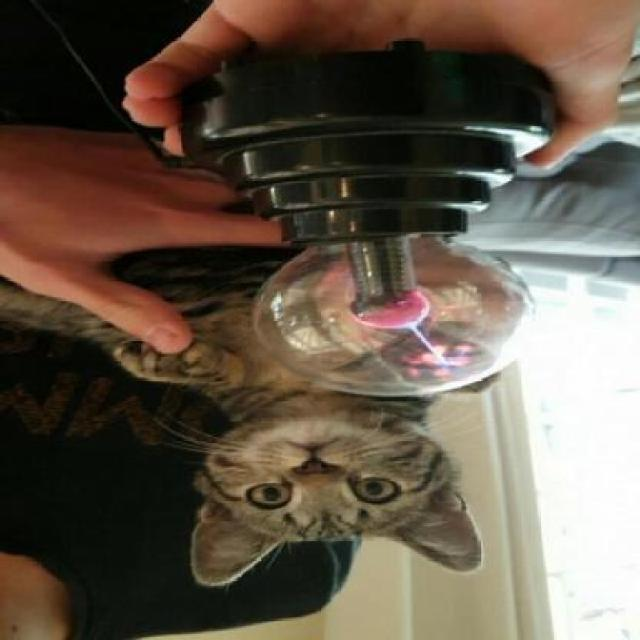cat: (94, 290, 483, 578)
